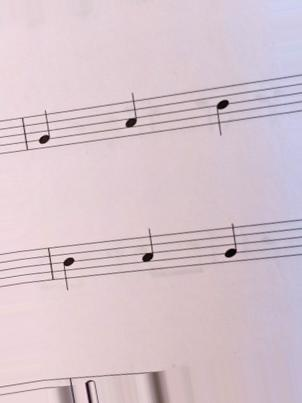note: (57, 239, 82, 295), (211, 81, 234, 140), (136, 226, 158, 277), (219, 218, 241, 266), (120, 88, 140, 139), (34, 109, 54, 156)
